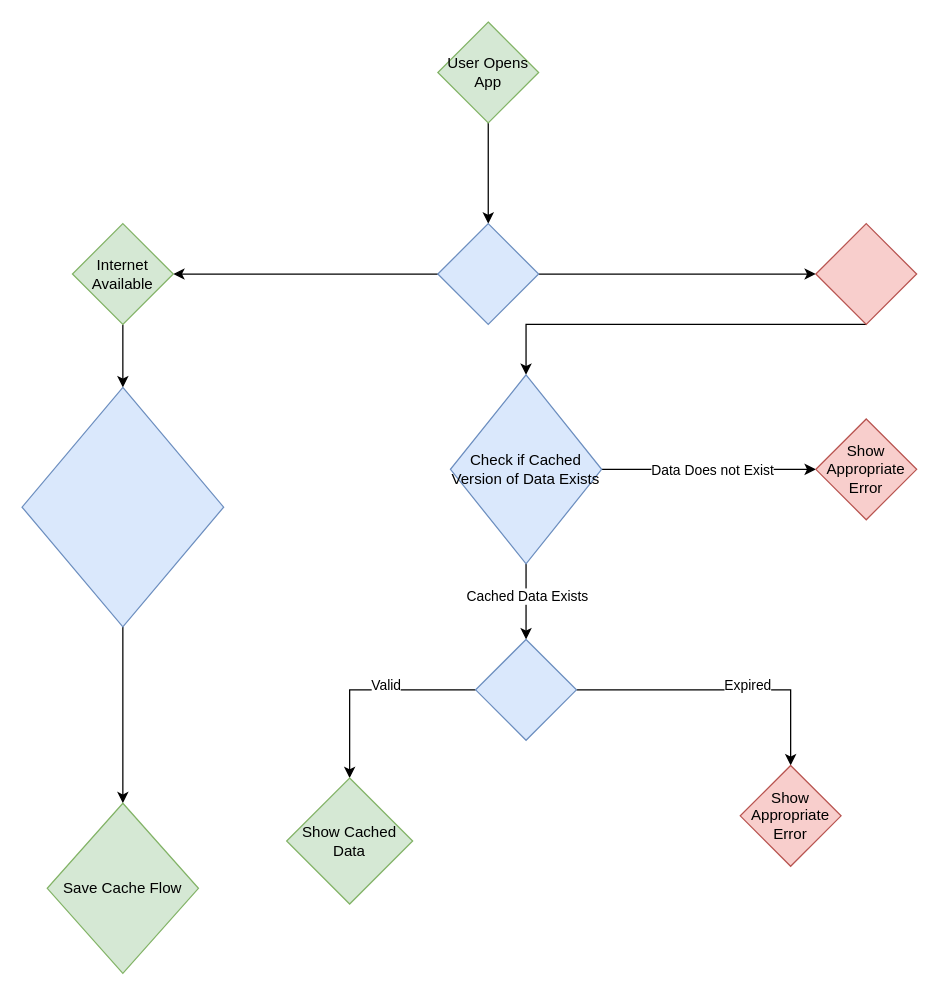
This 939x995 diagram has some shape labels left out. The box of each missing label's shape, as (x1, y1, x2, y2) in pixels:
Check CachePolicy Expiry: (474, 638, 576, 740)
Check if Internet is available: (437, 222, 539, 324)
Internet Not Available: (815, 222, 917, 324)
Request Fresh Data from Server using RemoteLessonLoader: (21, 386, 224, 627)
